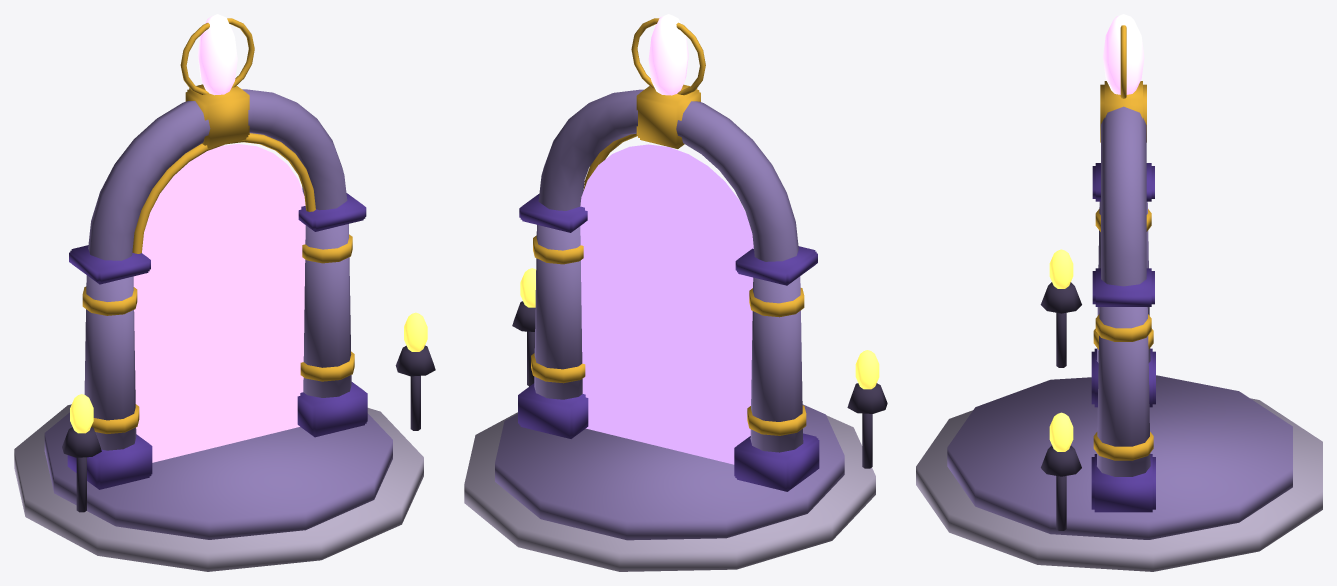
Rendered from portal-mestre.glb.
3 renders of one model, left to right at view 1: azimuth 30°, elevation 25°; view 2: azimuth 150°, elevation 25°; view 3: azimuth 270°, elevation 25°, orthographic.
Parts seen in each view (by area): view 1: PortalMestre; view 2: PortalMestre; view 3: PortalMestre.
Part boxes in pixels (x1,y1,x2,y2): PortalMestre: (14, 14, 435, 571); PortalMestre: (464, 14, 887, 571); PortalMestre: (916, 14, 1322, 571).
Bounding box in the file's own units: 4.12 × 5.01 × 3.92.
